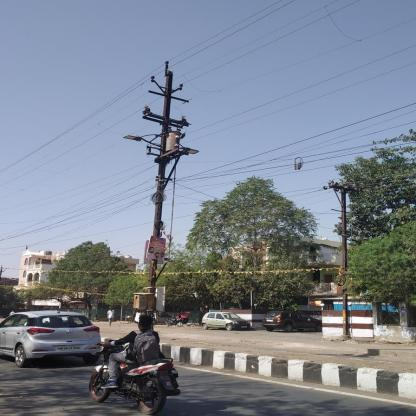Electrical Pole: (117, 58, 204, 339)
